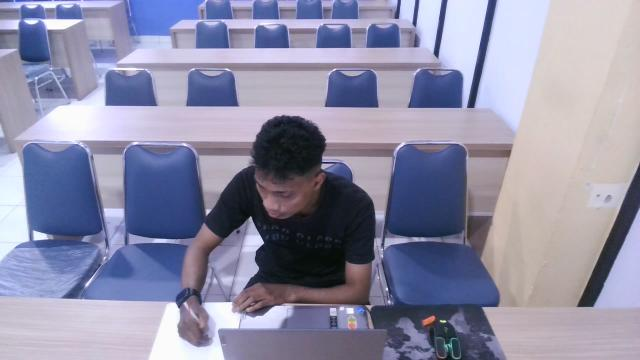Normal_Writing: (149, 97, 396, 360)
